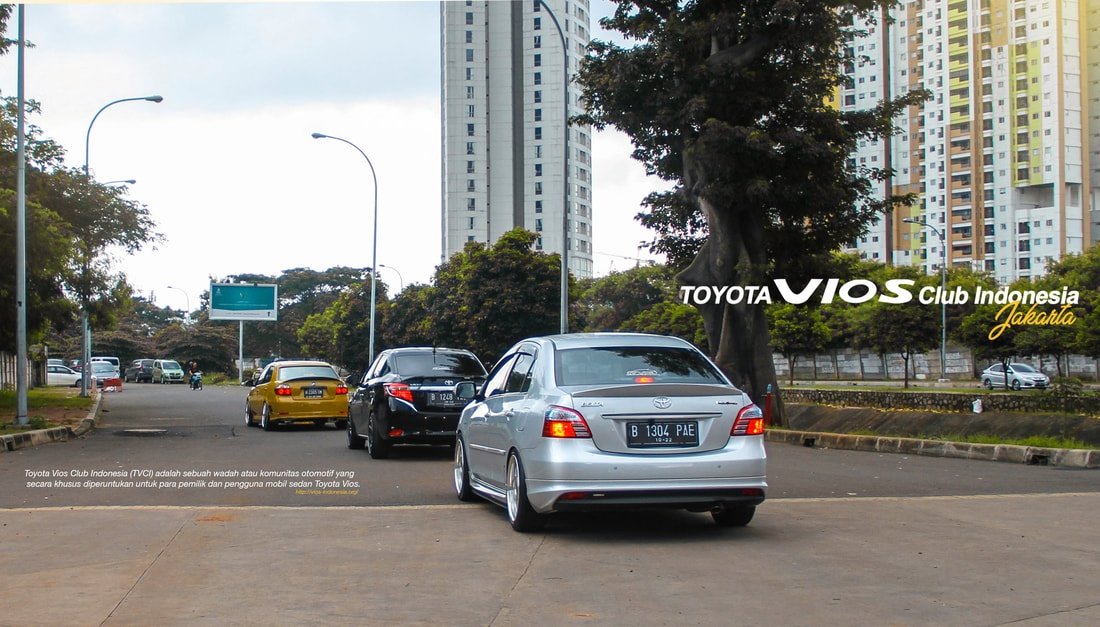plate: (629, 422, 699, 445), (430, 392, 466, 404), (304, 388, 325, 397)
